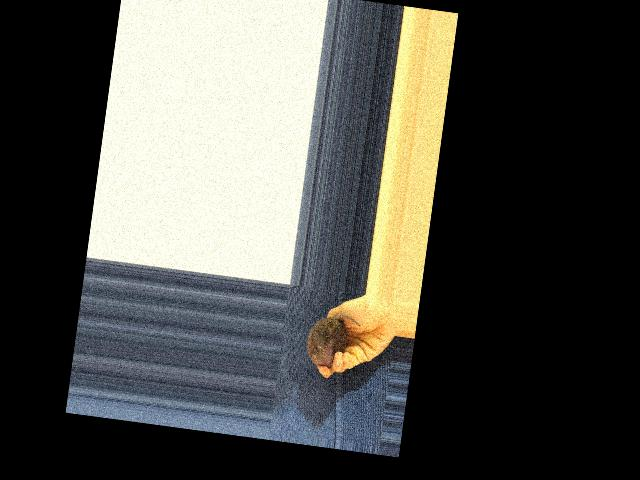beet: (304, 310, 362, 371)
